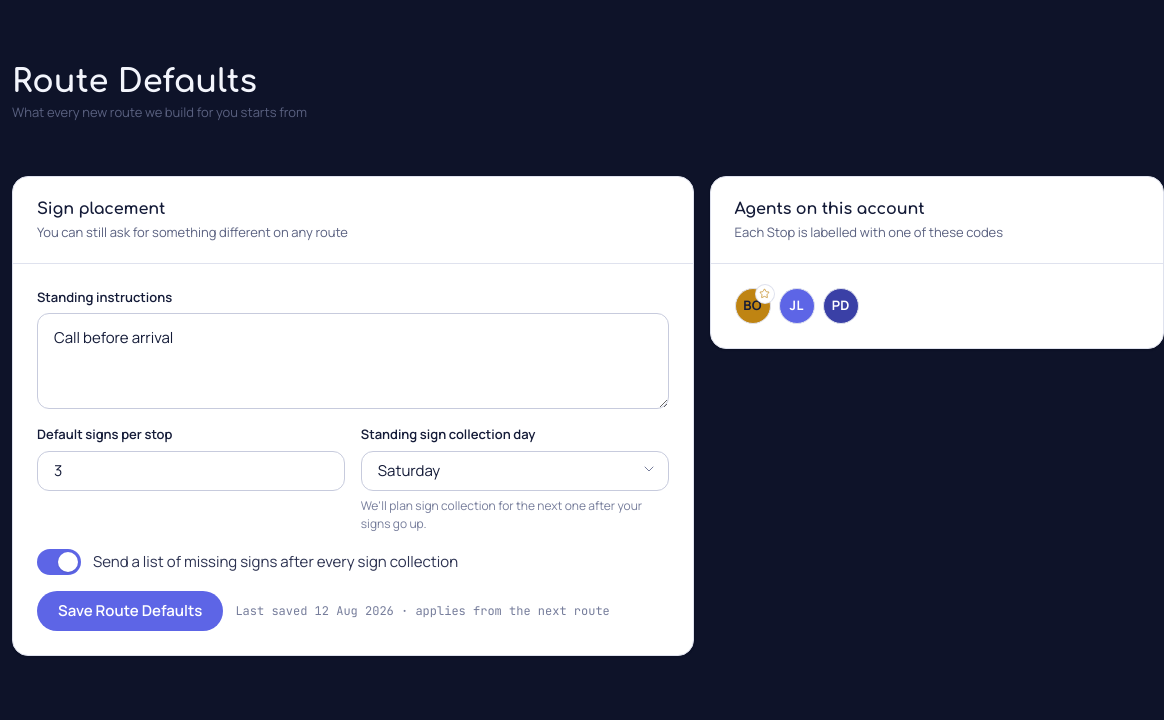
Test: Customer Route Defaults page › allows the account owner to save their Route Defaults
Check: the text box showing "Call before arrival" is shown, box [37,314,669,410]
Step 1. Replace the text in the number field labelled "Default signs per stop" with "6" → (191, 471), box [37,451,345,491]
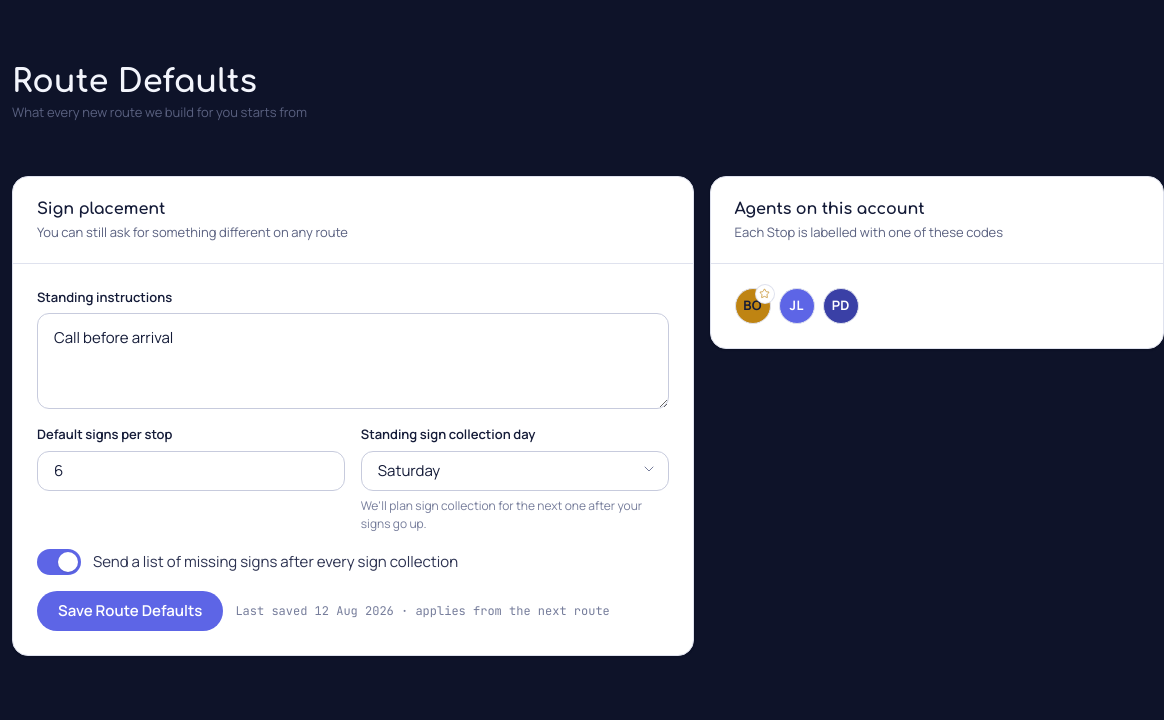
Step 2. Select "Sunday" in the dropdown labelled "Standing sign collection day" → (515, 471), box [361,451,669,491]
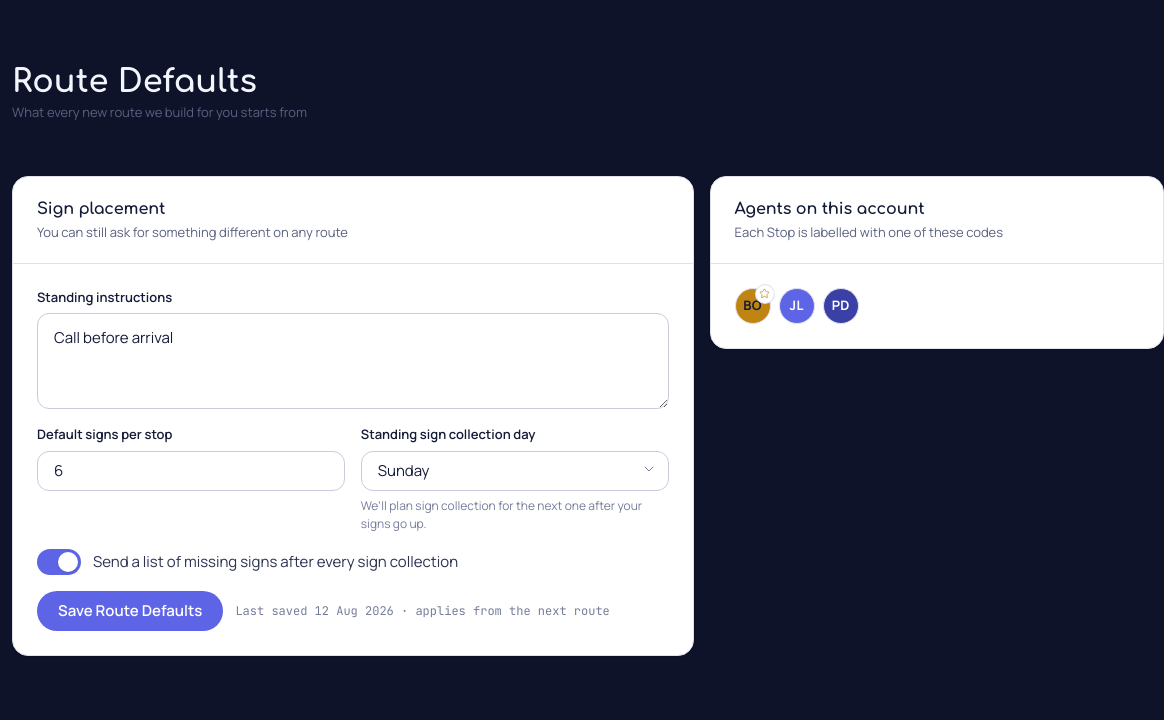
Step 3. Click the button "Save Route Defaults" → (130, 611), box [37,591,223,631]
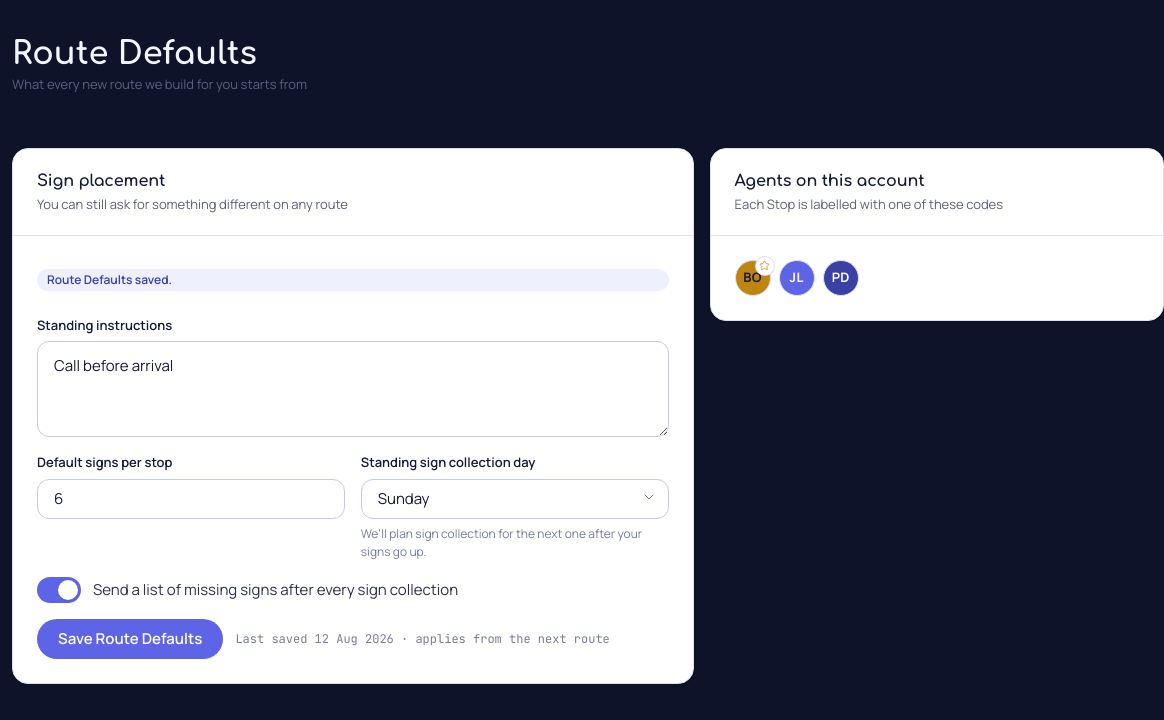
Check: the text "Route Defaults saved." is shown, box [37,269,669,291]
